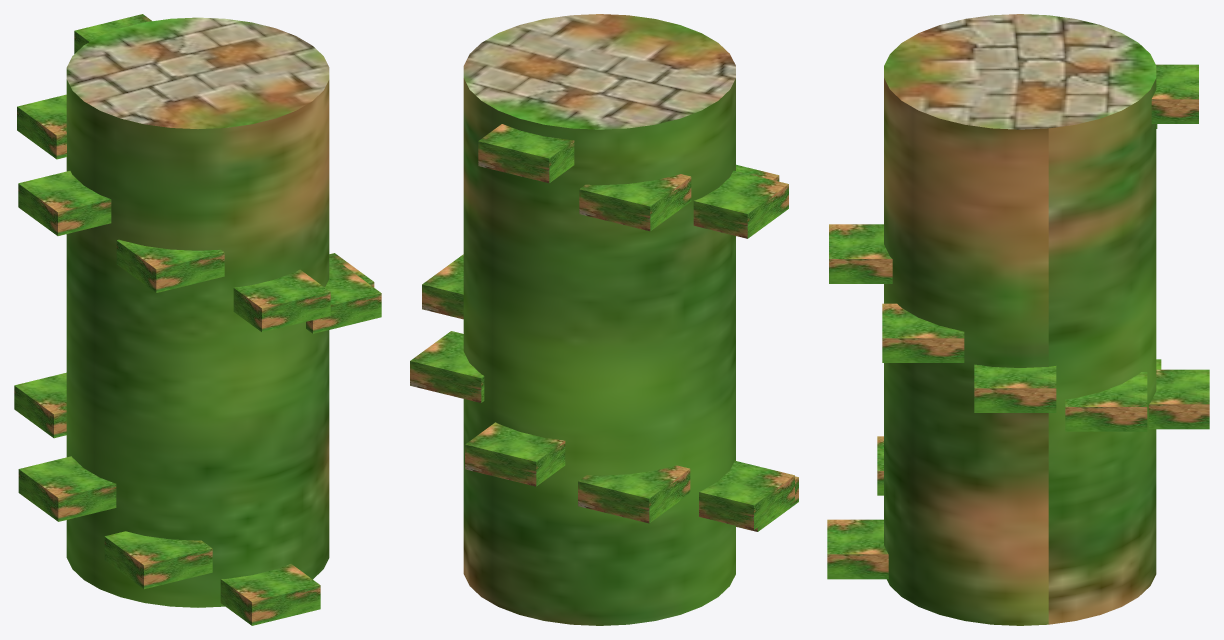
The model's file is first_gimmick.fbx.
3 renders of one model, left to right at view 1: azimuth 30°, elevation 25°; view 2: azimuth 150°, elevation 25°; view 3: azimuth 270°, elevation 25°, orthographic. The views are drawn at different scales.
Visible parts, largest first — view 1: pasted__pasted__pasted__pasted__pasted__pasted__pCube5; view 2: pasted__pasted__pasted__pasted__pasted__pasted__pCube5; view 3: pasted__pasted__pasted__pasted__pasted__pasted__pCube5.
Part boxes in pixels (left/top/right/bottom): pasted__pasted__pasted__pasted__pasted__pasted__pCube5: left=14, top=14, right=381, bottom=625; pasted__pasted__pasted__pasted__pasted__pasted__pCube5: left=410, top=14, right=798, bottom=625; pasted__pasted__pasted__pasted__pasted__pasted__pCube5: left=827, top=14, right=1209, bottom=625.
Bounding box in the file's own units: 13.9 × 20 × 13.97.
Materials: 1 (1 with a texture image).
